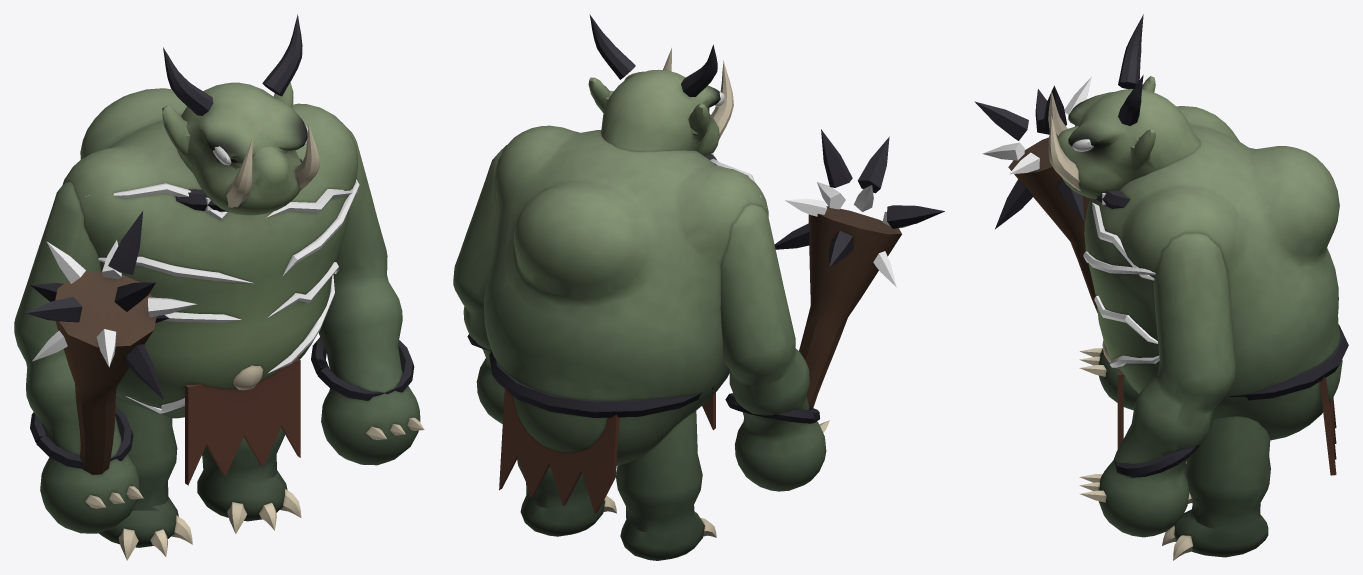
Rendered from foe_ogre.fbx.
3 views of the same model, side by side, from view 1: azimuth 30°, elevation 25°; view 2: azimuth 150°, elevation 25°; view 3: azimuth 270°, elevation 25° (orthographic). The views are drawn at different scales.
Visible parts, largest first — view 1: foe_ogre_body, foe_ogre_leg_fr, foe_ogre_leg_fl, foe_ogre_head, foe_ogre_leg_br, foe_ogre_body_glow, foe_ogre_leg_bl, foe_ogre_leg_fr_glow; view 2: foe_ogre_body, foe_ogre_leg_fr, foe_ogre_head, foe_ogre_leg_br, foe_ogre_tail, foe_ogre_leg_fl, foe_ogre_leg_bl, foe_ogre_leg_fr_glow; view 3: foe_ogre_body, foe_ogre_leg_fl, foe_ogre_head, foe_ogre_leg_bl, foe_ogre_leg_fr, foe_ogre_body_glow, foe_ogre_leg_fr_glow, foe_ogre_tail.
Part boxes in pixels (<box>): foe_ogre_body: <box>62,88,357,485</box>; foe_ogre_leg_fr: <box>14,181,168,533</box>; foe_ogre_leg_fl: <box>311,126,424,465</box>; foe_ogre_head: <box>162,14,319,215</box>; foe_ogre_leg_br: <box>98,396,192,560</box>; foe_ogre_body_glow: <box>85,179,359,413</box>; foe_ogre_leg_bl: <box>197,428,301,533</box>; foe_ogre_leg_fr_glow: <box>32,240,196,367</box>; foe_ogre_body: <box>484,125,768,465</box>; foe_ogre_leg_fr: <box>720,129,944,491</box>; foe_ogre_head: <box>588,14,733,155</box>; foe_ogre_leg_br: <box>616,411,716,560</box>; foe_ogre_tail: <box>499,387,619,513</box>; foe_ogre_leg_fl: <box>453,145,506,423</box>; foe_ogre_leg_bl: <box>517,458,616,536</box>; foe_ogre_leg_fr_glow: <box>785,182,924,286</box>; foe_ogre_body: <box>1084,106,1348,449</box>; foe_ogre_leg_fl: <box>1079,233,1235,537</box>; foe_ogre_head: <box>1048,14,1200,198</box>; foe_ogre_leg_bl: <box>1162,416,1270,560</box>; foe_ogre_leg_fr: <box>974,85,1139,410</box>; foe_ogre_body_glow: <box>1083,193,1159,367</box>; foe_ogre_leg_fr_glow: <box>982,76,1091,174</box>; foe_ogre_tail: <box>1319,376,1336,475</box>.
Size of the model in its own units: 1198 by 1344 by 945.
Materials: 2 (1 with a texture image).
